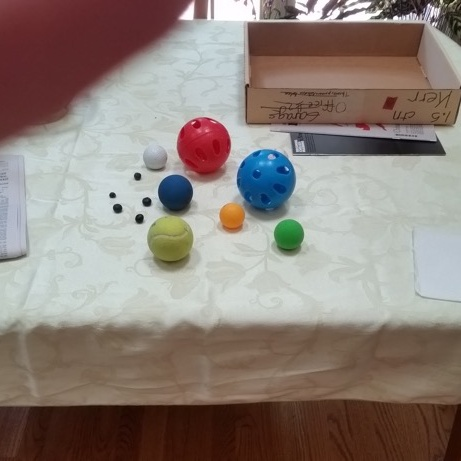ball: (235, 147, 299, 215), (175, 114, 233, 177)
